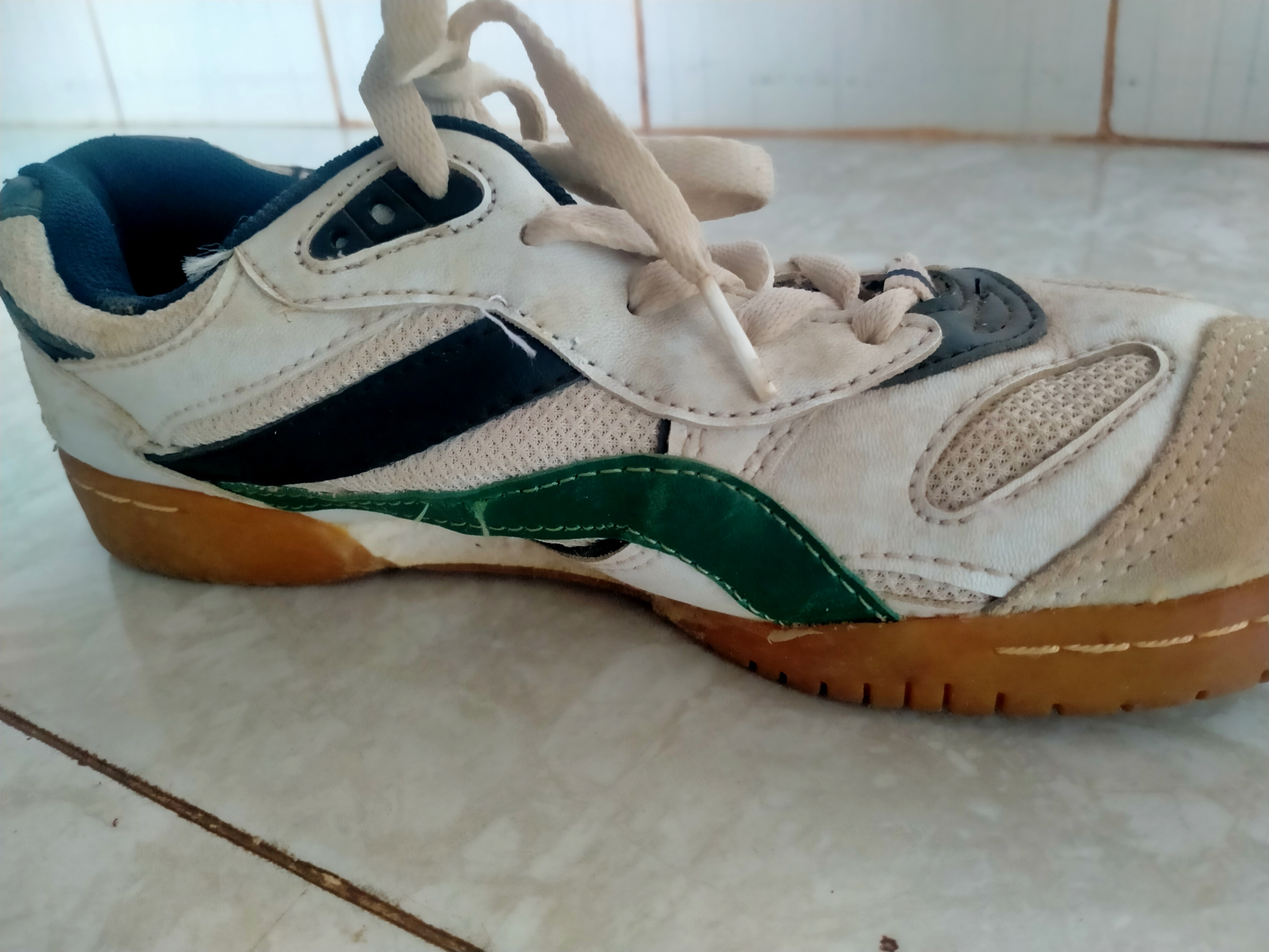broken: (485, 295, 606, 371), (419, 485, 512, 513)
